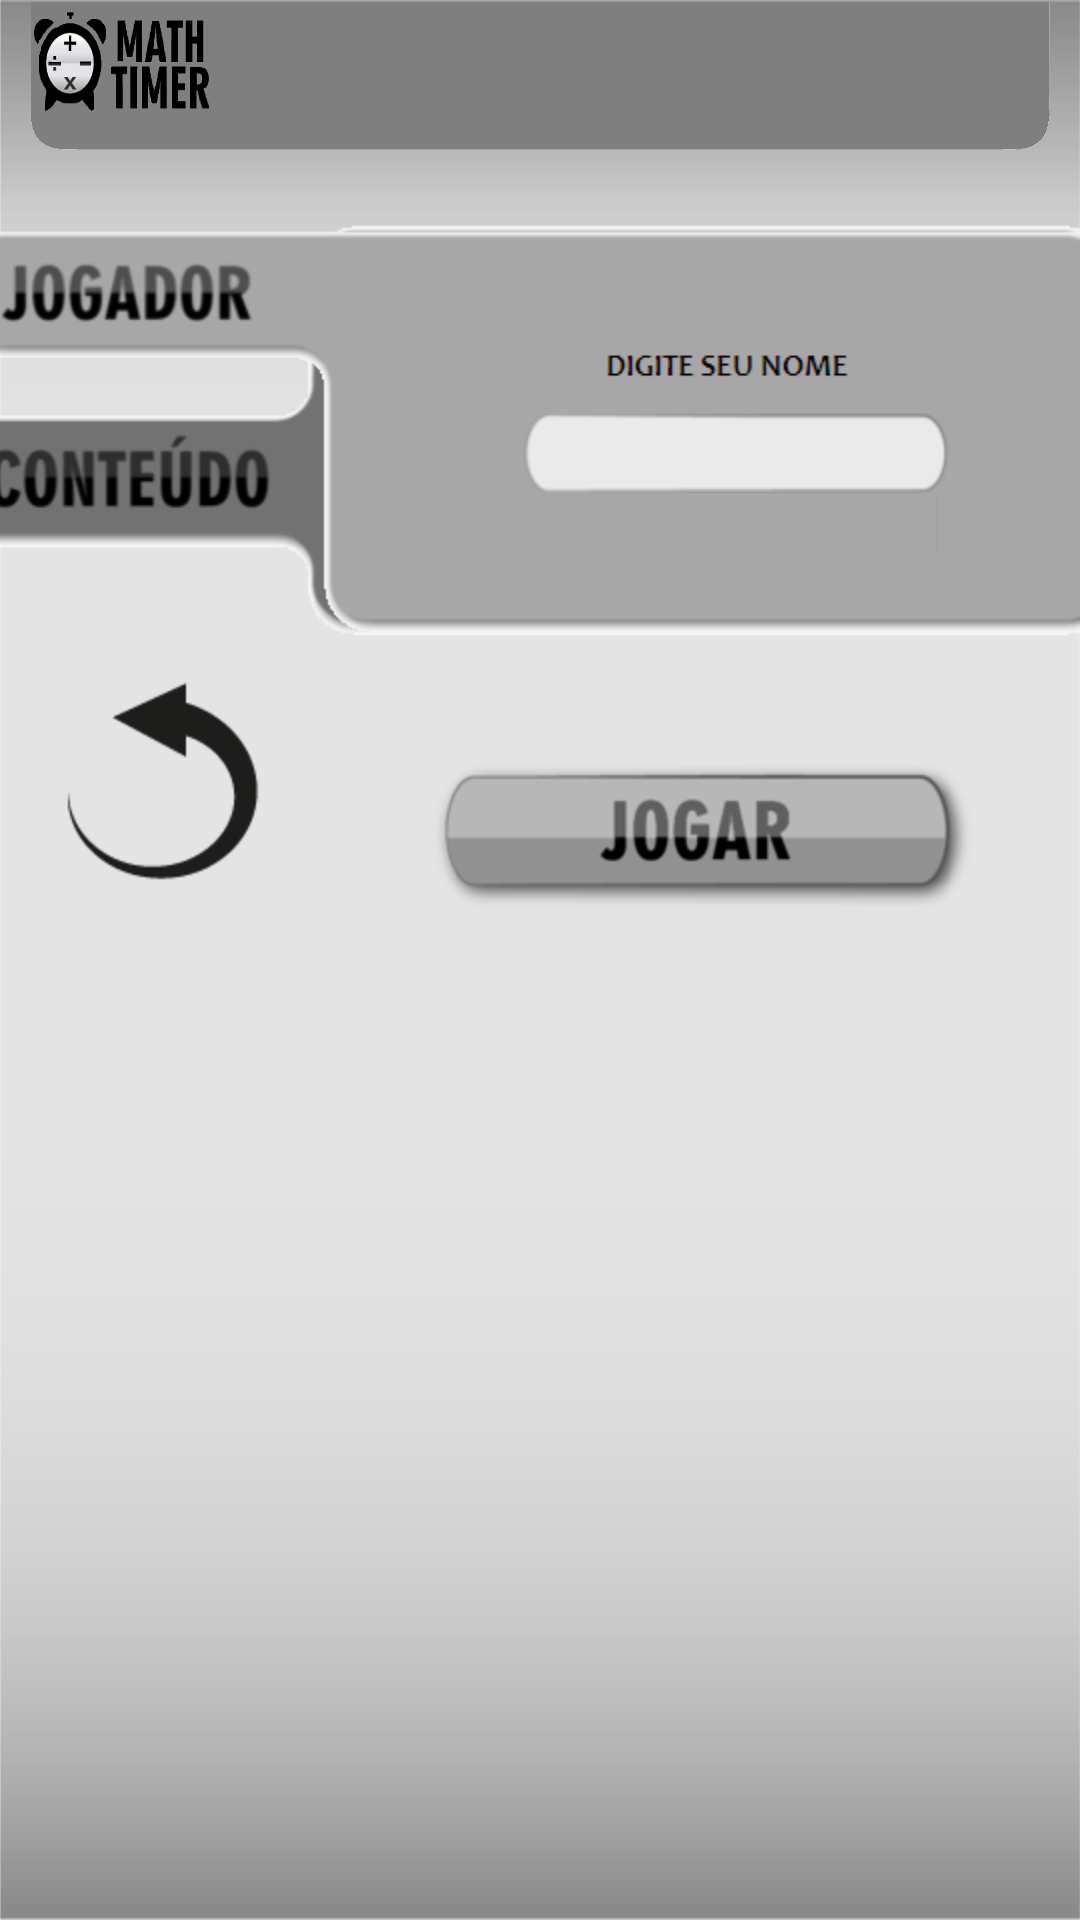

Screen size 1080px x 1920px. Icon name, then its box in pixels as rect(x1, y1, x2, y2):
voltar: rect(67, 683, 259, 880)
